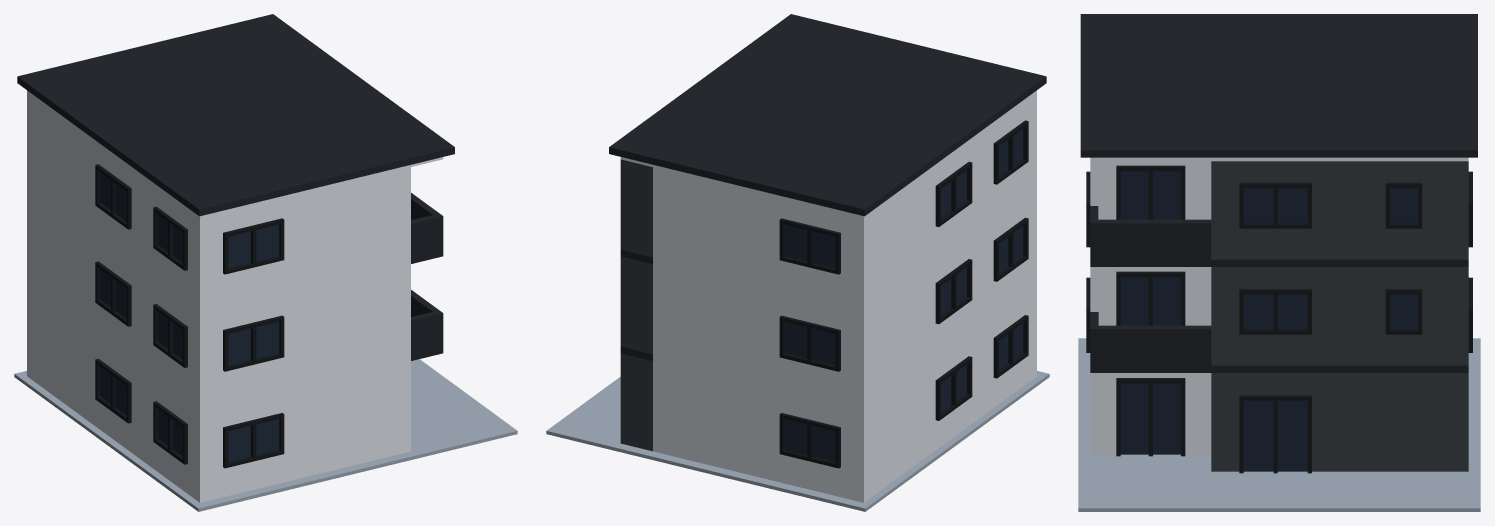
Rendered from apart1.glb.
The picture shows the model from 3 angles, left to right: view 1: azimuth 30°, elevation 25°; view 2: azimuth 150°, elevation 25°; view 3: azimuth 270°, elevation 25°; orthographic projection. The views are drawn at different scales.
Parts seen in each view (by area): view 1: apart1; view 2: apart1; view 3: apart1.
Part boxes in pixels (x1,y1,x2,y2): apart1: [14, 14, 517, 511]; apart1: [546, 14, 1049, 511]; apart1: [1078, 14, 1480, 511].
Size of the model in its own units: 10 by 9.02 by 10.
